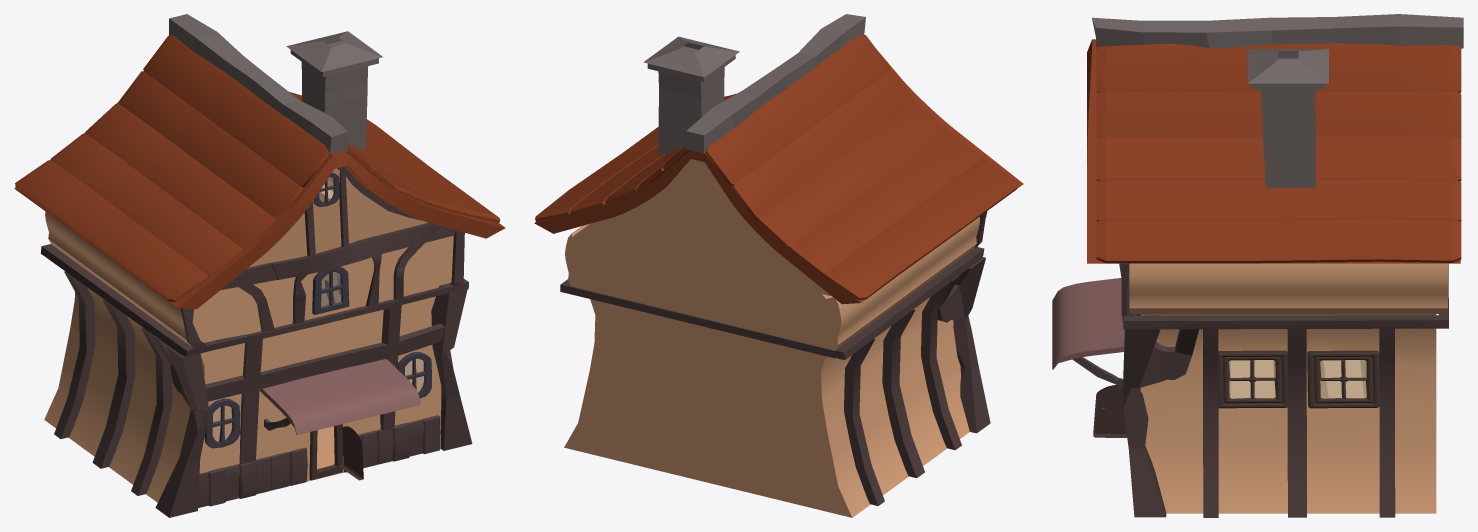
File: FantasyMedivalBuilding5.fbx
3 views of the same model, side by side, from view 1: azimuth 30°, elevation 25°; view 2: azimuth 150°, elevation 25°; view 3: azimuth 270°, elevation 25° (orthographic). The views are drawn at different scales.
Parts seen in each view (by area): view 1: Roof Woods, Building_5, Wood Frame.007, Wood Frame.008, Shade, Roof.008, Woods, Chimney.001, Roof.007, Door.006, Windows.007, Windows.008 (+2 smaller); view 2: Building_5, Roof Woods, Wood Frame.007, Chimney.001, Roof.007, Roof.008, Wood Frame.008; view 3: Roof Woods, Building_5, Wood Frame.007, Roof.007, Chimney.001, Wood Frame.008, Shade, Windows.010, Windows.009, Roof.008, Door.006.
Boxes of the visible parts, left/top/right/bottom form: Roof Woods: left=15, top=35, right=500, bottom=301; Building_5: left=44, top=167, right=453, bottom=508; Wood Frame.007: left=40, top=166, right=468, bottom=495; Wood Frame.008: left=151, top=283, right=472, bottom=517; Shade: left=259, top=359, right=420, bottom=434; Roof.008: left=14, top=100, right=505, bottom=309; Woods: left=198, top=415, right=440, bottom=507; Chimney.001: left=286, top=31, right=382, bottom=149; Roof.007: left=169, top=14, right=347, bottom=153; Door.006: left=309, top=424, right=363, bottom=480; Windows.007: left=312, top=266, right=349, bottom=314; Windows.008: left=204, top=398, right=240, bottom=448; Building_5: left=564, top=159, right=979, bottom=517; Roof Woods: left=535, top=34, right=1018, bottom=300; Wood Frame.007: left=560, top=211, right=987, bottom=505; Chimney.001: left=643, top=36, right=739, bottom=155; Roof.007: left=686, top=14, right=865, bottom=153; Roof.008: left=534, top=49, right=1023, bottom=304; Wood Frame.008: left=937, top=257, right=990, bottom=433; Roof Woods: left=1096, top=43, right=1461, bottom=263; Building_5: left=1129, top=263, right=1447, bottom=513; Wood Frame.007: left=1119, top=263, right=1448, bottom=517; Roof.007: left=1092, top=14, right=1463, bottom=50; Chimney.001: left=1247, top=49, right=1328, bottom=188; Wood Frame.008: left=1123, top=315, right=1199, bottom=517; Shade: left=1052, top=278, right=1124, bottom=388; Windows.010: left=1307, top=350, right=1379, bottom=408; Windows.009: left=1218, top=350, right=1287, bottom=408; Roof.008: left=1087, top=39, right=1460, bottom=263; Door.006: left=1093, top=385, right=1127, bottom=437.
Size of the model in its own units: 5745 by 6083 by 5357.
